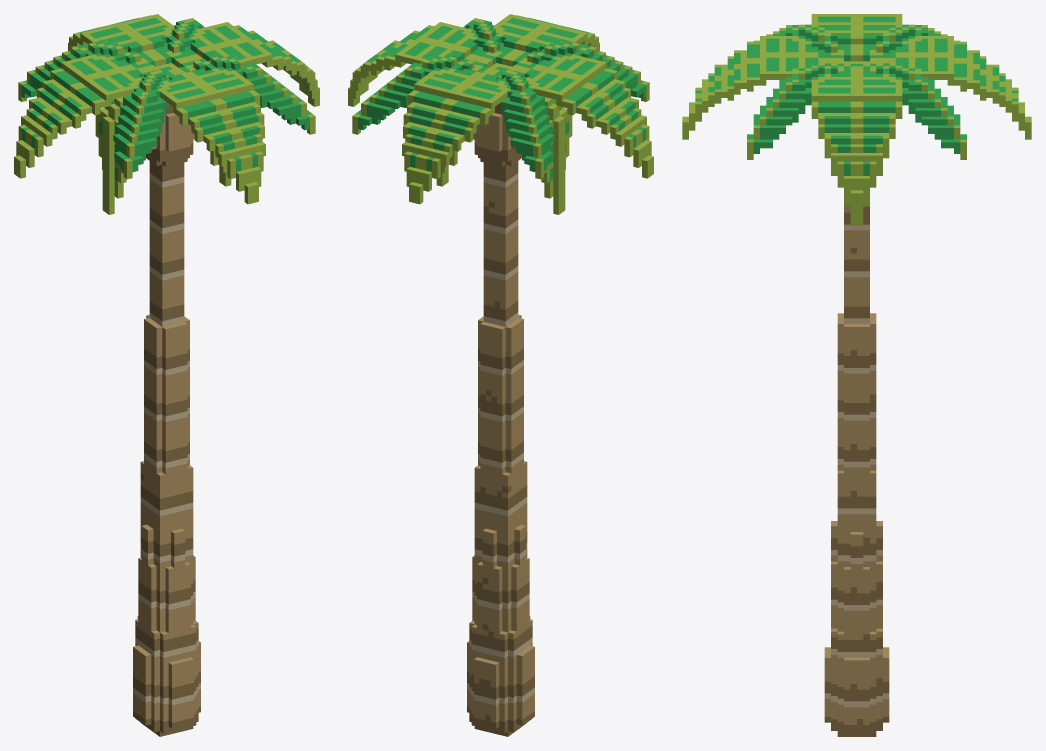
Rendered from PalmB.fbx.
3 renders of one model, left to right at view 1: azimuth 30°, elevation 25°; view 2: azimuth 150°, elevation 25°; view 3: azimuth 270°, elevation 25°, orthographic.
Parts seen in each view (by area): view 1: PalmB; view 2: PalmB; view 3: PalmB.
Boxes of the visible parts, <box> form: PalmB: <box>14,14,319,736</box>; PalmB: <box>348,14,653,736</box>; PalmB: <box>682,14,1031,736</box>.
Bounding box in the file's own units: 540 × 1160 × 540.
